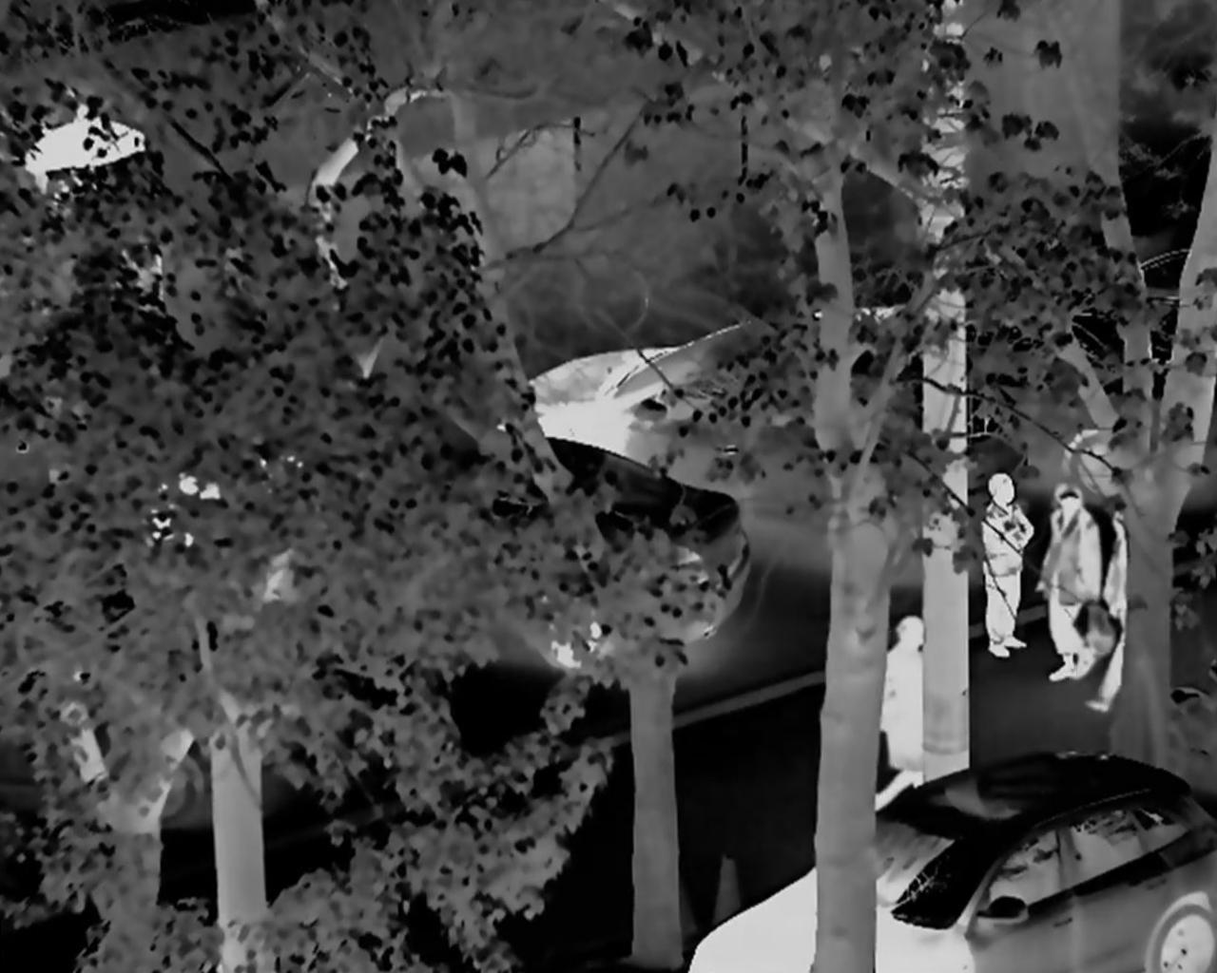person: (1099, 514, 1160, 744), (865, 607, 930, 803), (1041, 477, 1094, 692), (978, 463, 1031, 659)
